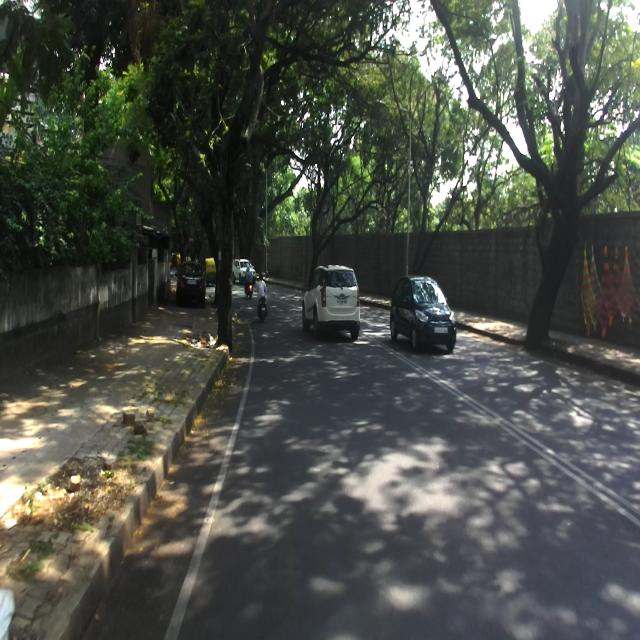car ahead at: (389, 271, 458, 351), (307, 260, 365, 346)
tree ahead at: (196, 141, 248, 345)
